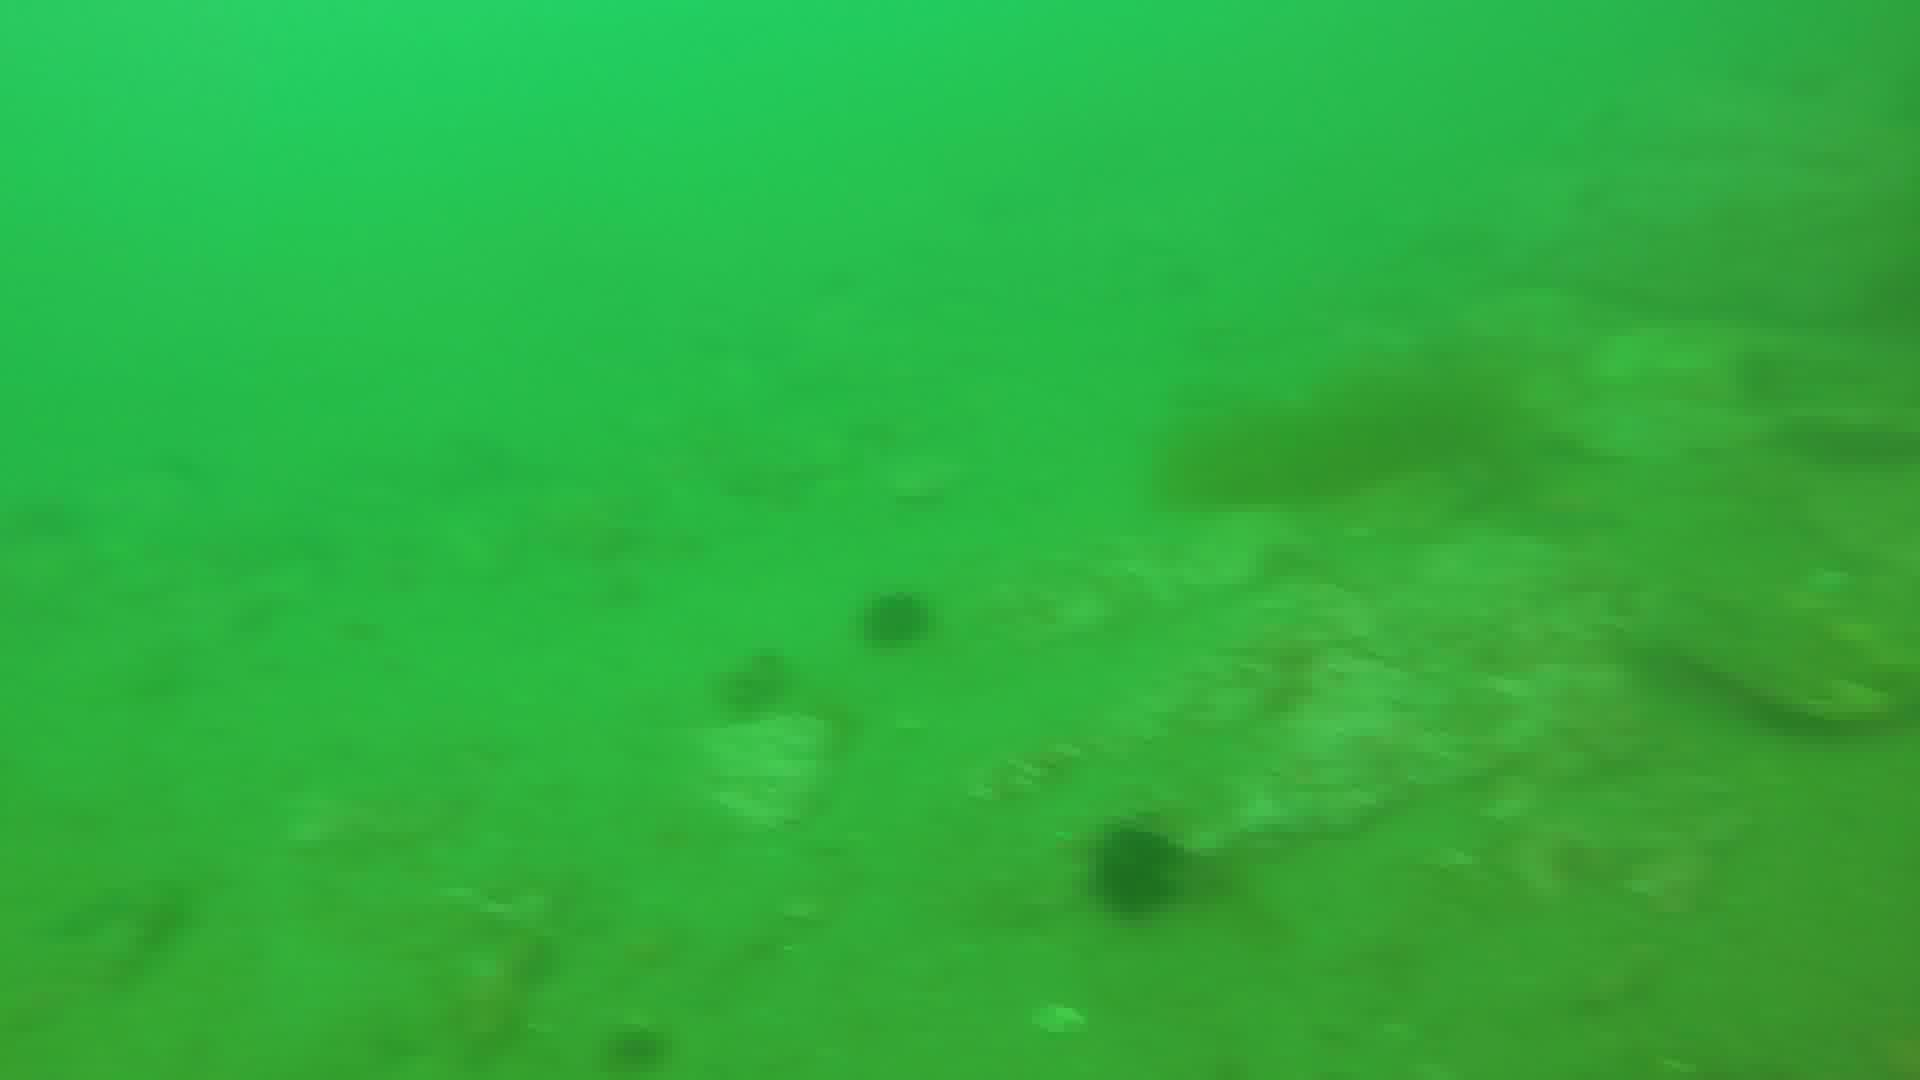echinus: (1096, 816, 1183, 920), (861, 585, 938, 647)
